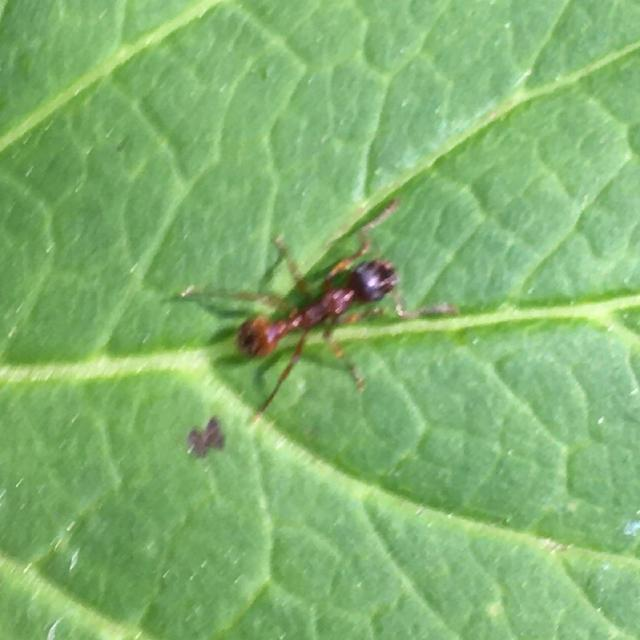Myrmica: (199, 210, 441, 392)
